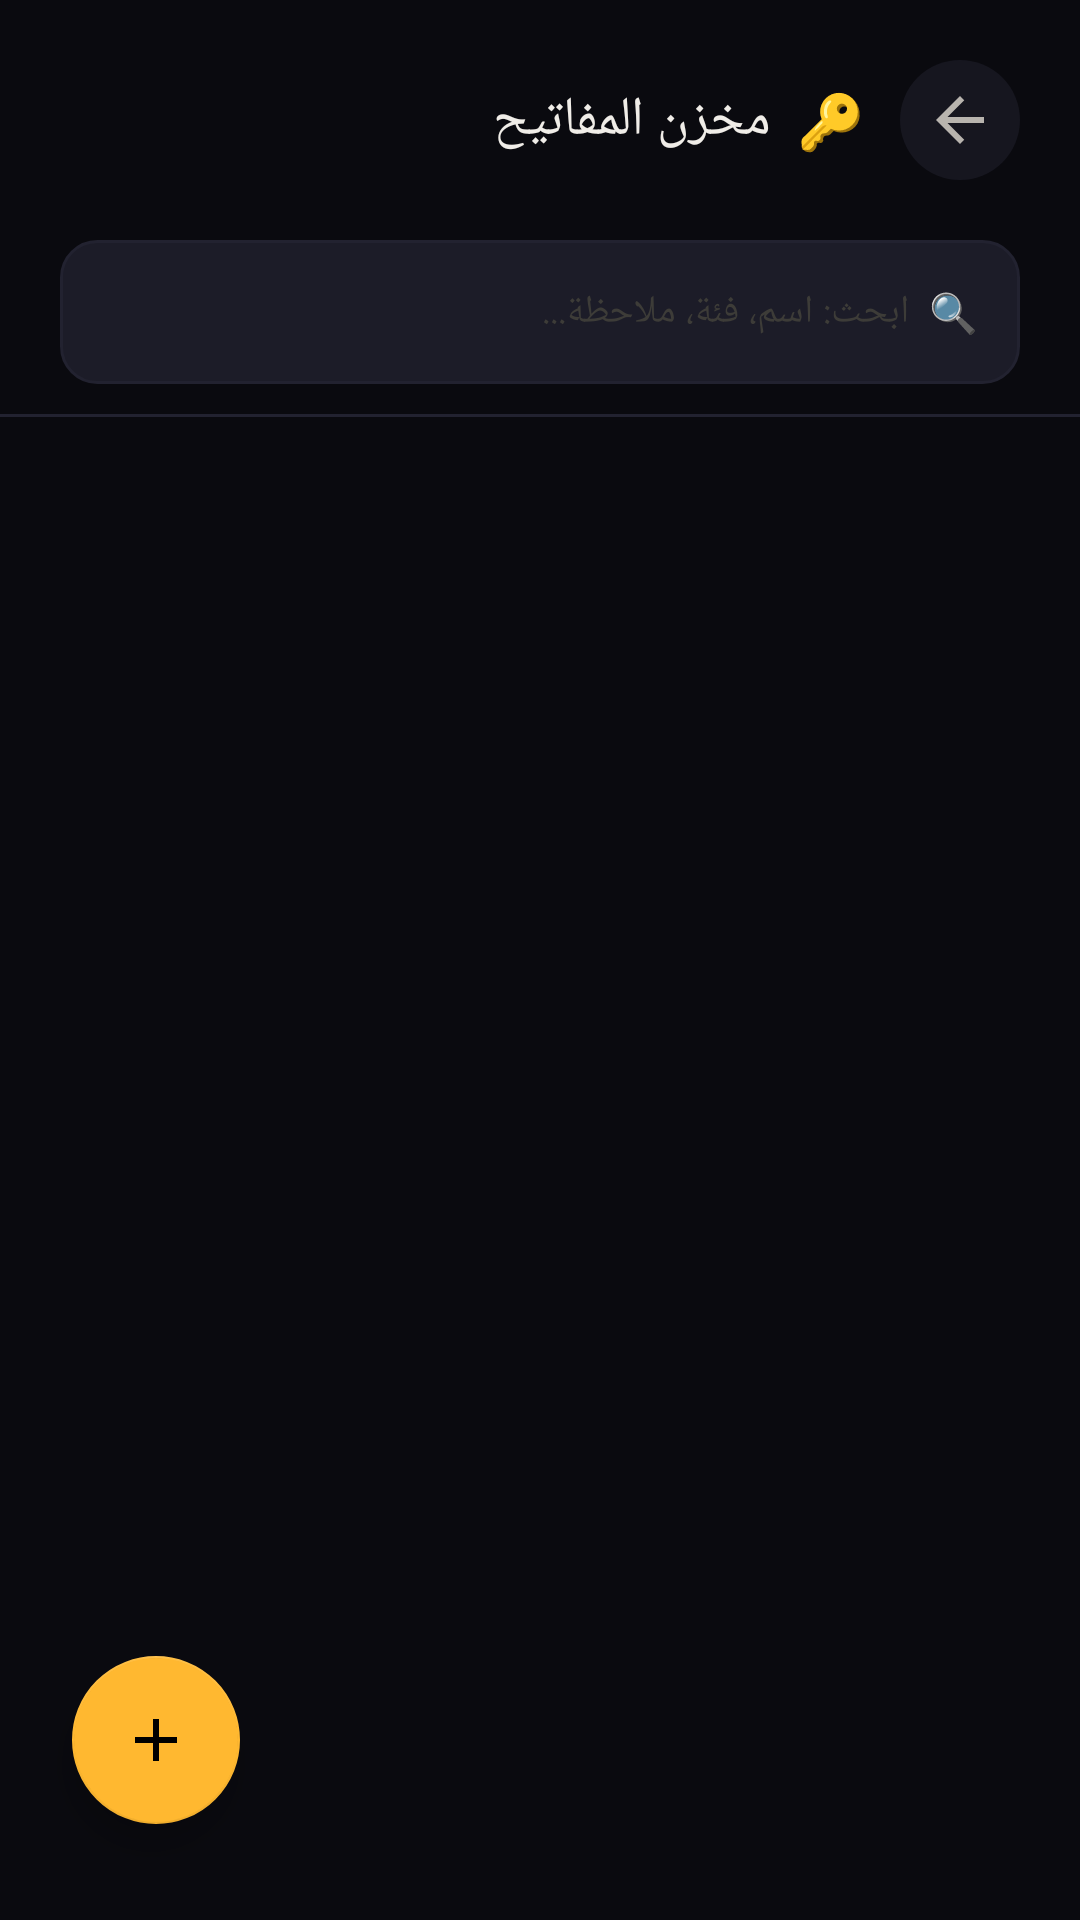

Icons on this 1080px×1920px Android screen, each with the point to tap as (x,y):
add: (156,1740)
back: (960,120)
